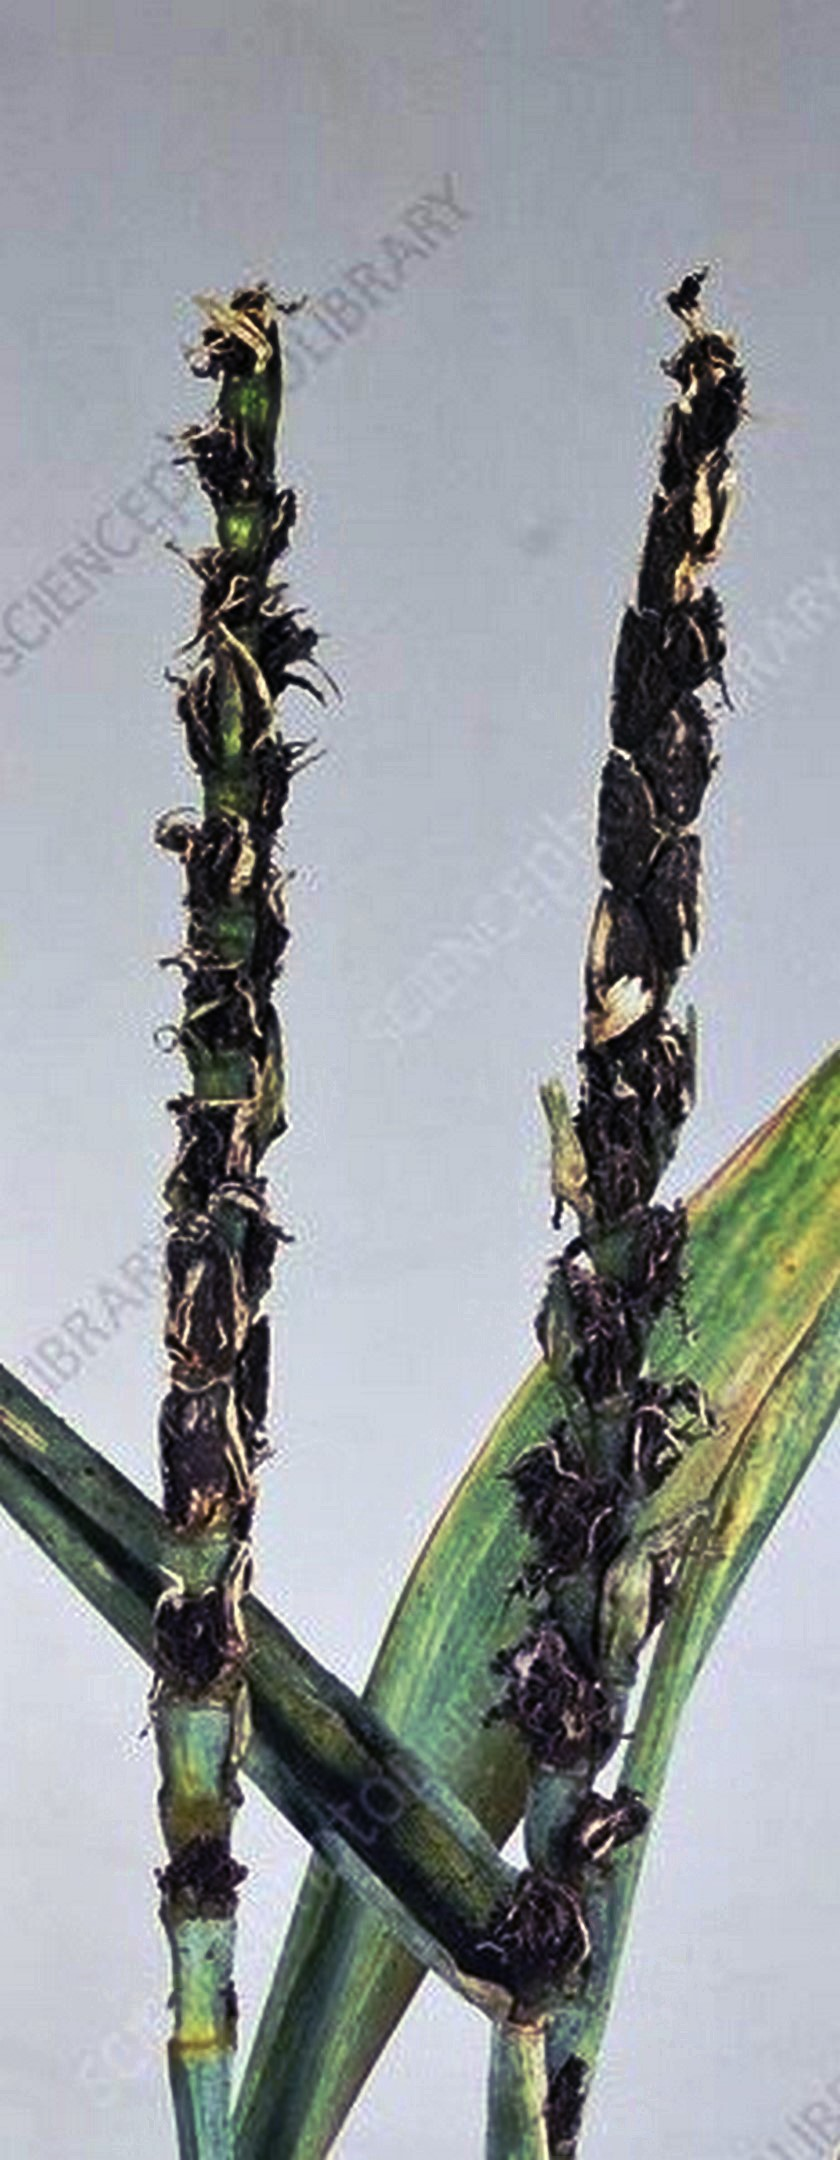Wheat Loose Smut: (489, 277, 698, 1726), (114, 296, 307, 1732)
